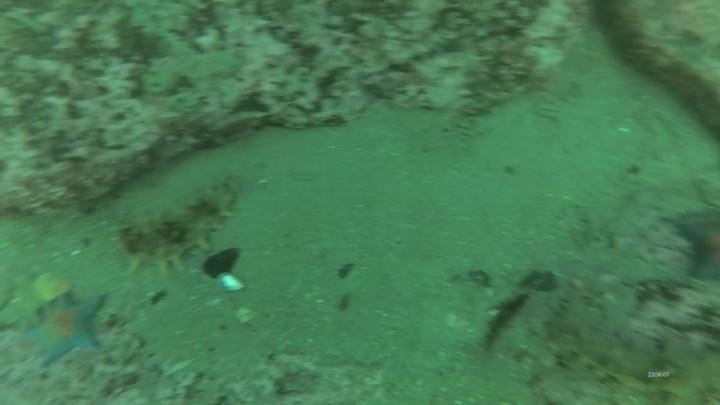holothurian: (544, 308, 720, 403), (117, 176, 242, 274)
starfish: (22, 285, 111, 371), (671, 210, 720, 284)
